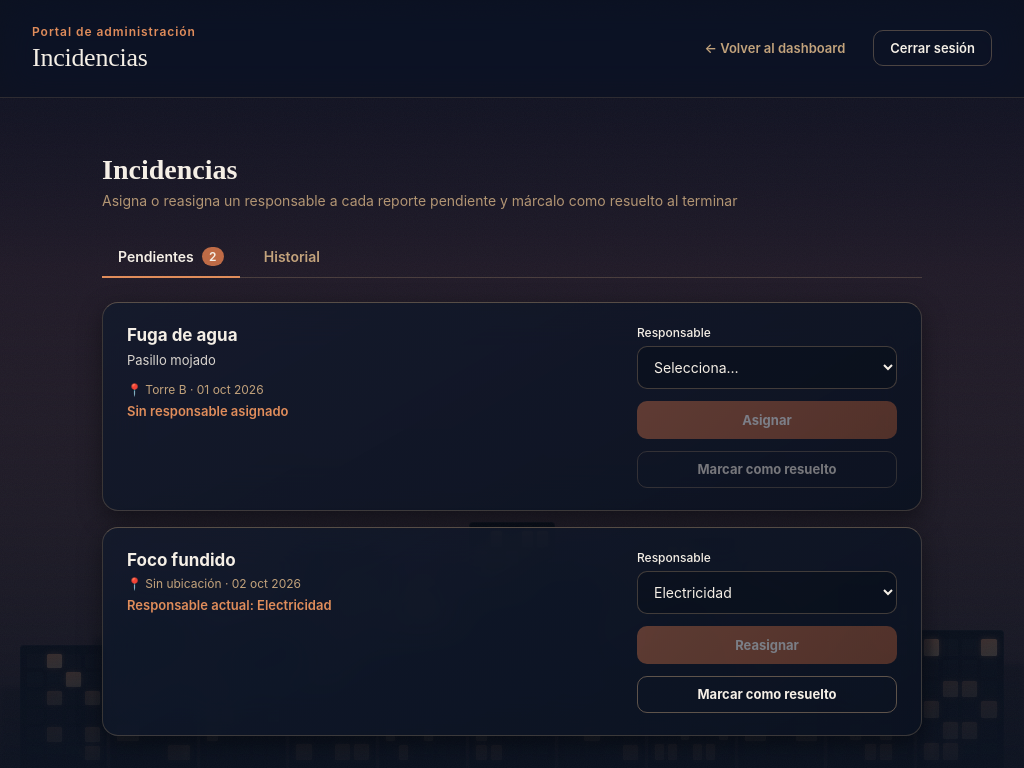
Test: CU-09 resolver › resuelve una incidencia con responsable y la saca de pendientes
Check: the heading "Foco fundido" is shown, box [127, 550, 236, 570]
Step 1. Click the 2nd button "Marcar como resuelto" → (767, 694), box [637, 676, 897, 713]
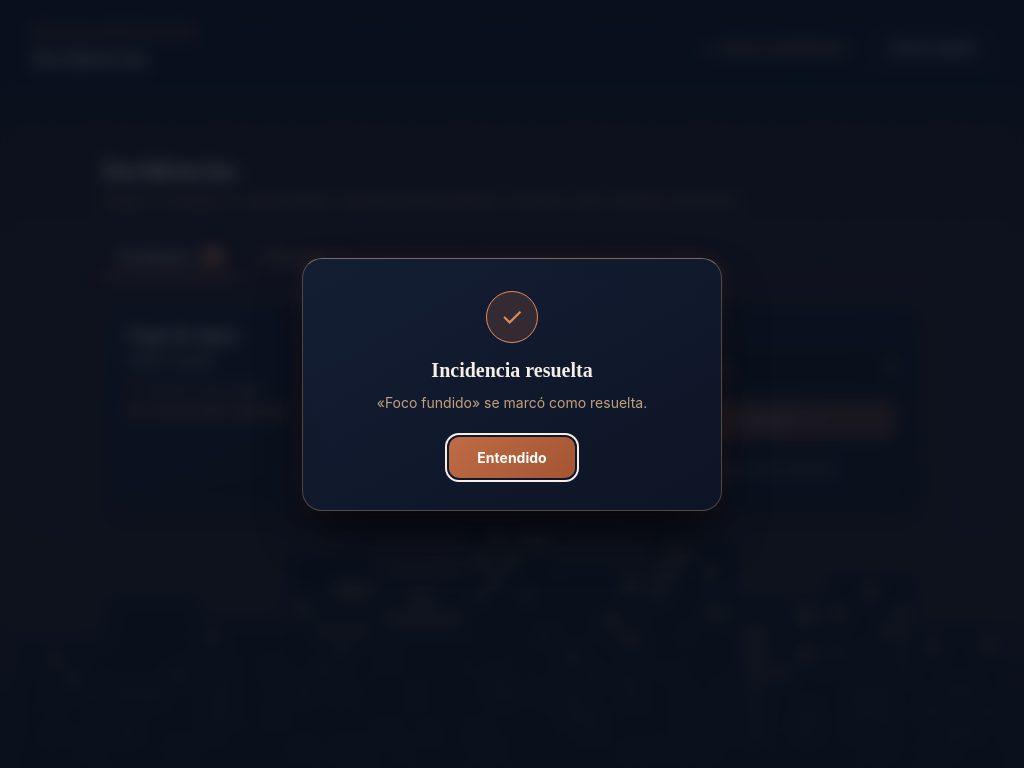
Check: the heading "Incidencia resuelta" is shown, box [431, 358, 593, 380]
